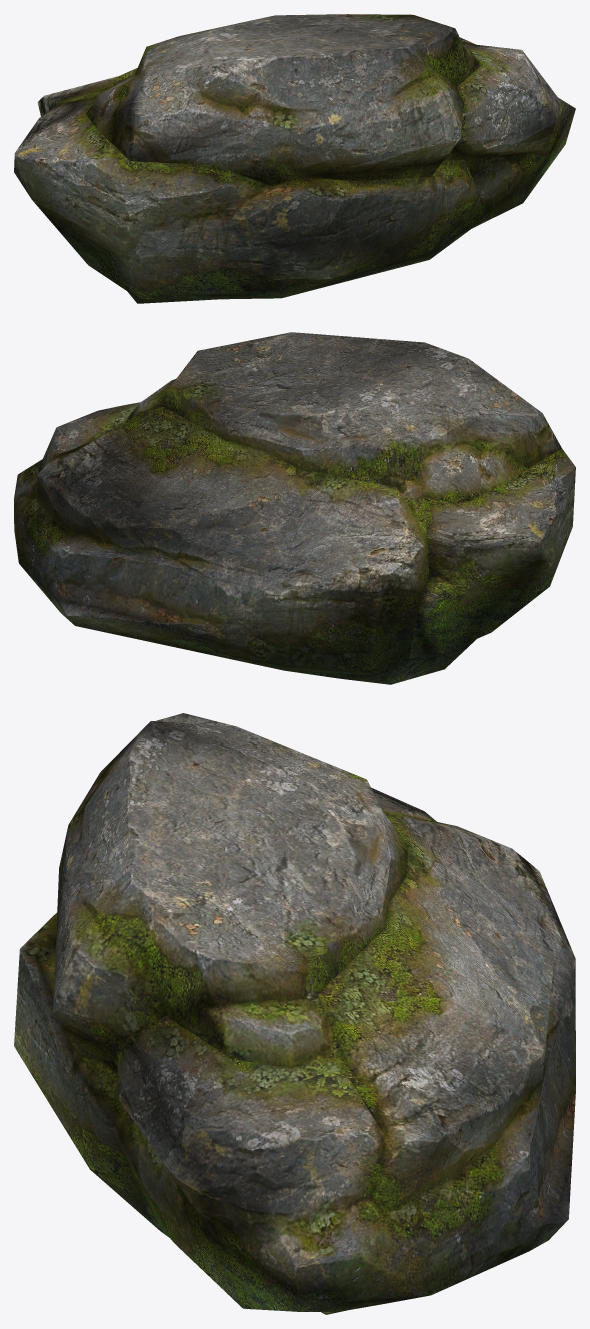
Rendered from Rock6_lod1.glb.
The picture shows the model from 3 angles, top to bottom: view 1: azimuth 30°, elevation 25°; view 2: azimuth 150°, elevation 25°; view 3: azimuth 270°, elevation 25°; orthographic projection. The views are drawn at different scales.
Visible parts, largest first — view 1: common_rock6_lod1; view 2: common_rock6_lod1; view 3: common_rock6_lod1.
Part boxes in pixels (box(x1,y1,x2,y2)): common_rock6_lod1: box(14, 14, 575, 303); common_rock6_lod1: box(14, 332, 575, 684); common_rock6_lod1: box(14, 713, 575, 1314).
Size of the model in its own units: 3.61 by 1.73 by 2.24.
Materials: 1 (1 with a texture image).
